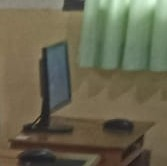monitor: (40, 40, 72, 117)
